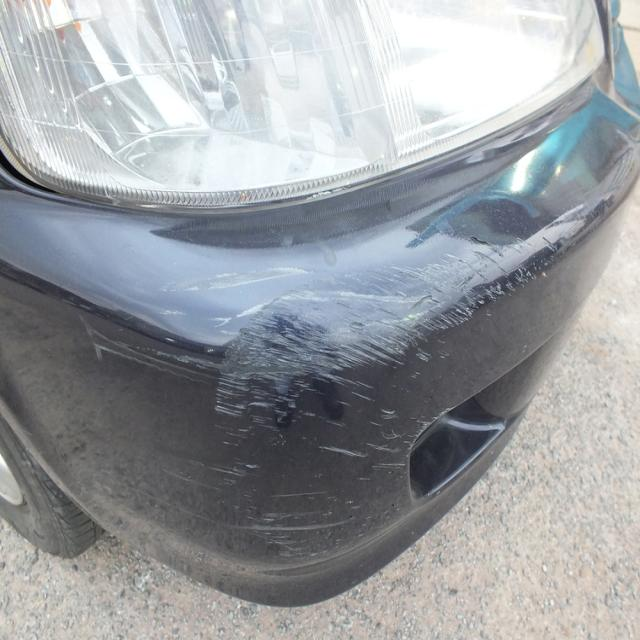scratch: (95, 214, 582, 557)
